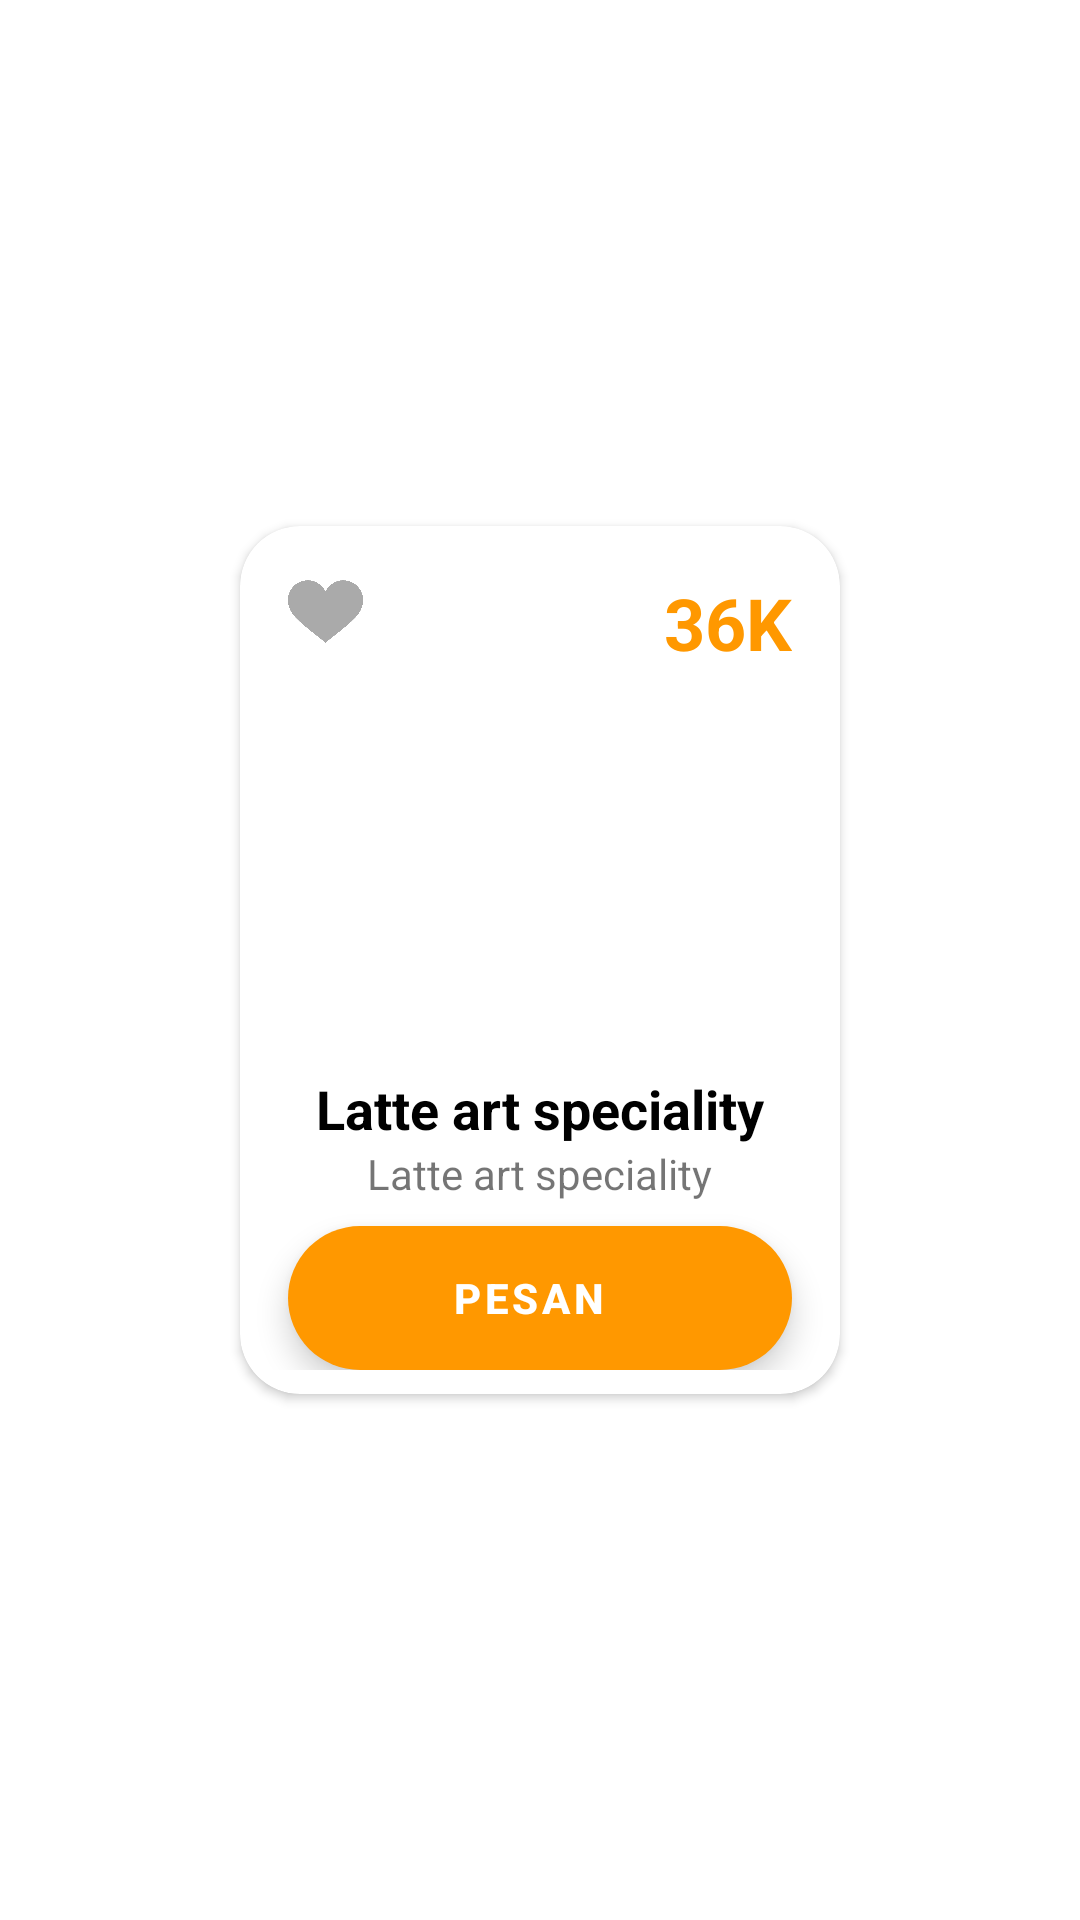

Named icons in this screenshot (1080x1920) and their bounding boxes, (x1, y1, x2, y2):
like: (288, 580, 363, 643)
